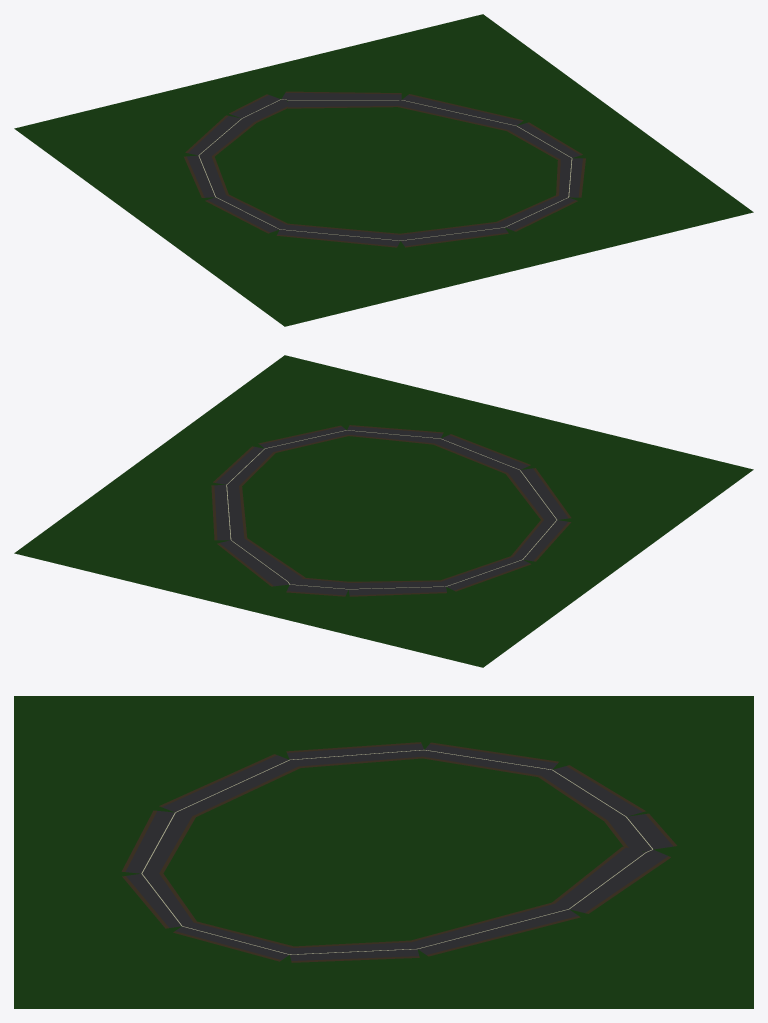
Rendered from track.glb.
3 views of the same model, one above another, from view 1: azimuth 30°, elevation 25°; view 2: azimuth 150°, elevation 25°; view 3: azimuth 270°, elevation 25° (orthographic). The views are drawn at different scales.
Visible parts, largest first — view 1: mesh0; view 2: mesh0; view 3: mesh0.
Part boxes in pixels (x1=…): mesh0: x1=14, y1=14, x2=753, y2=326; mesh0: x1=14, y1=355, x2=753, y2=667; mesh0: x1=14, y1=696, x2=753, y2=1008.
Size of the model in its own units: 220 by 0.05 by 220.
